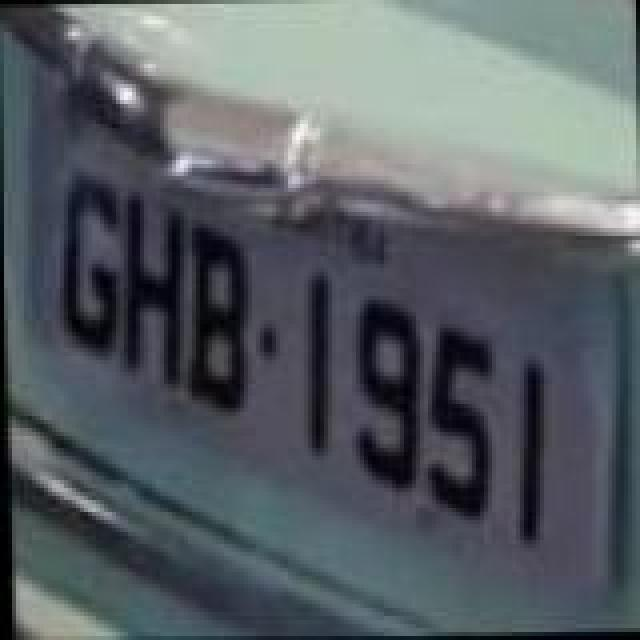1: (508, 356, 552, 548), (296, 272, 336, 460)
5: (416, 320, 496, 524)
9: (348, 300, 428, 496)
B: (178, 218, 254, 418)
G: (54, 172, 130, 356)
H: (114, 186, 190, 390)
